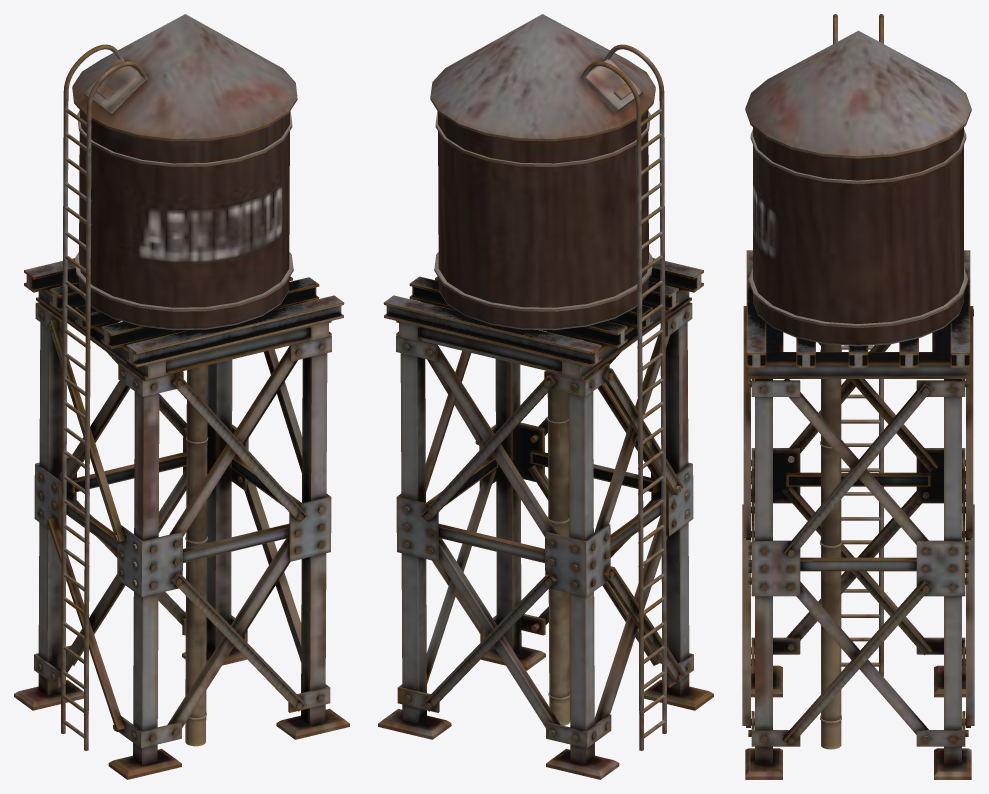
Rendered from tower.glb.
3 renders of one model, left to right at view 1: azimuth 30°, elevation 25°; view 2: azimuth 150°, elevation 25°; view 3: azimuth 270°, elevation 25°, orthographic.
Parts seen in each view (by area): view 1: pCylinder47; view 2: pCylinder47; view 3: pCylinder47.
Boxes of the visible parts, box(x1,y1,x2,y2) form: pCylinder47: box(14, 14, 349, 779); pCylinder47: box(378, 14, 713, 779); pCylinder47: box(742, 14, 974, 779).
Bounding box in the file's own units: 0.6647 × 2.05 × 0.6013.
1 material, 1 textured.
